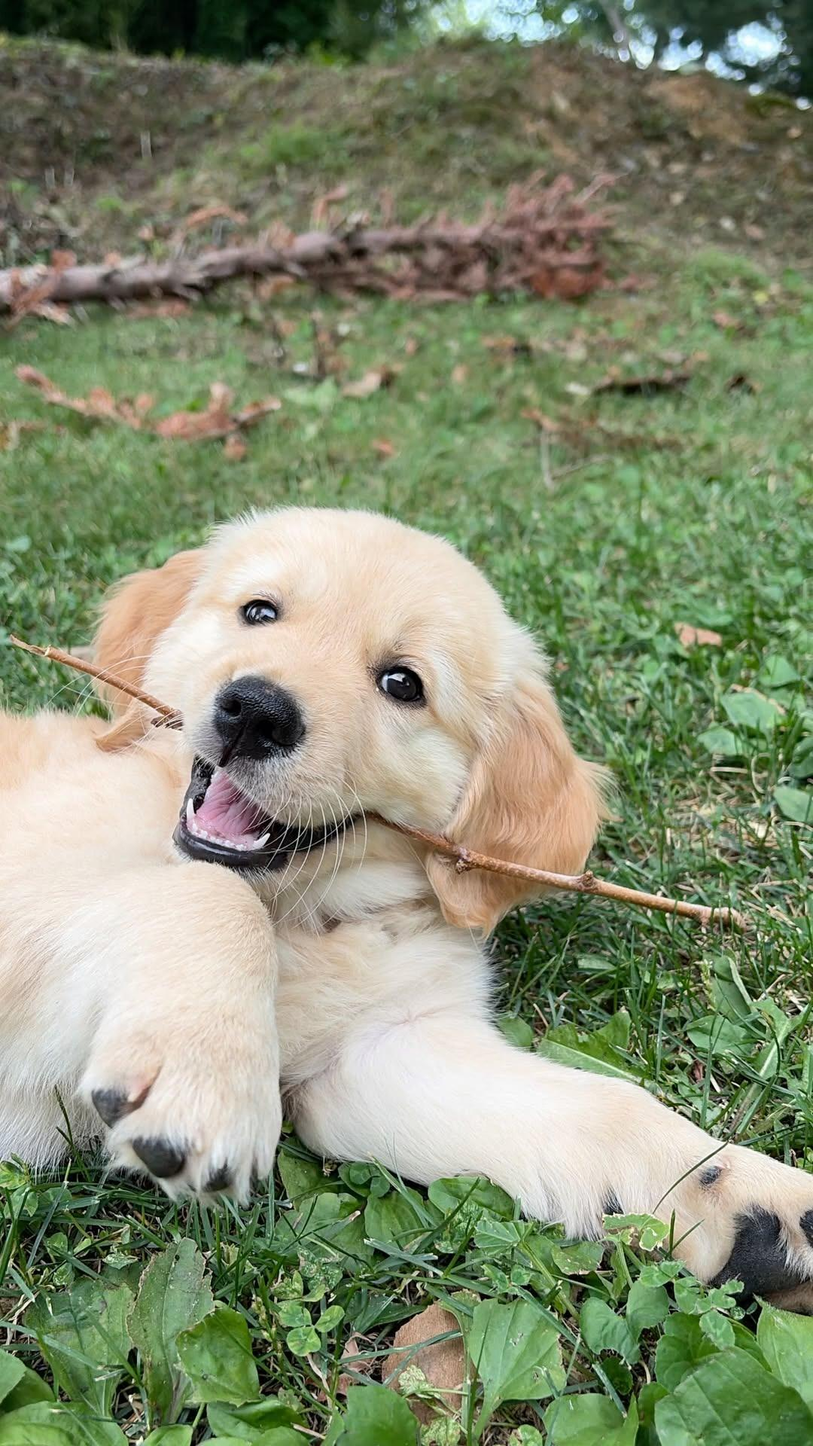puppy-dog: (0, 505, 813, 1320)
